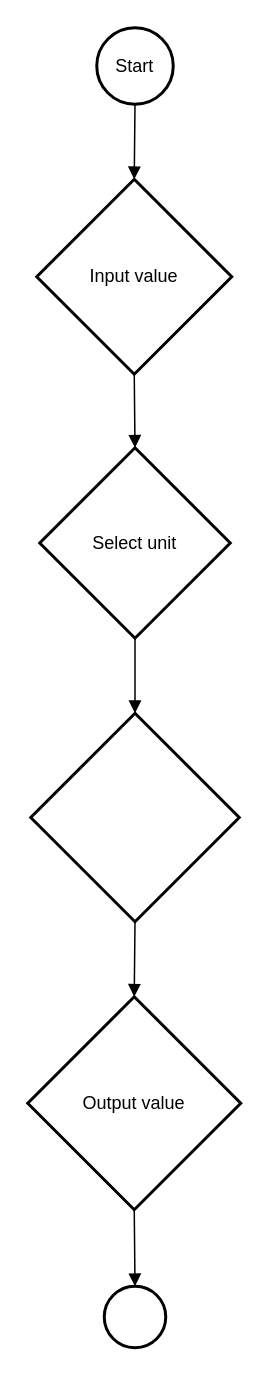
This 267x1374 diagram has some shape labels left out. The shapes that lost their labels are listed below. From the top down, each one's centre as x and y in pixels, then its label:
At [134,816]: "Convert unit".
At [134,1316]: "End".
